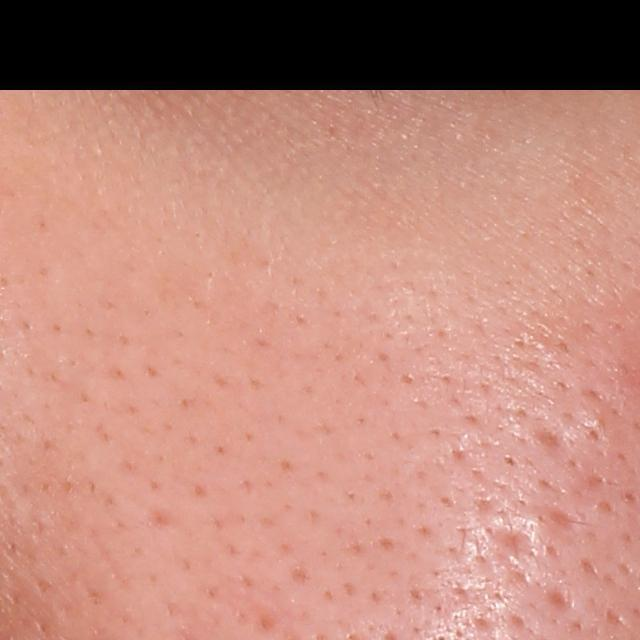atrophic_scar: (481, 522, 541, 566), (539, 580, 578, 608)
